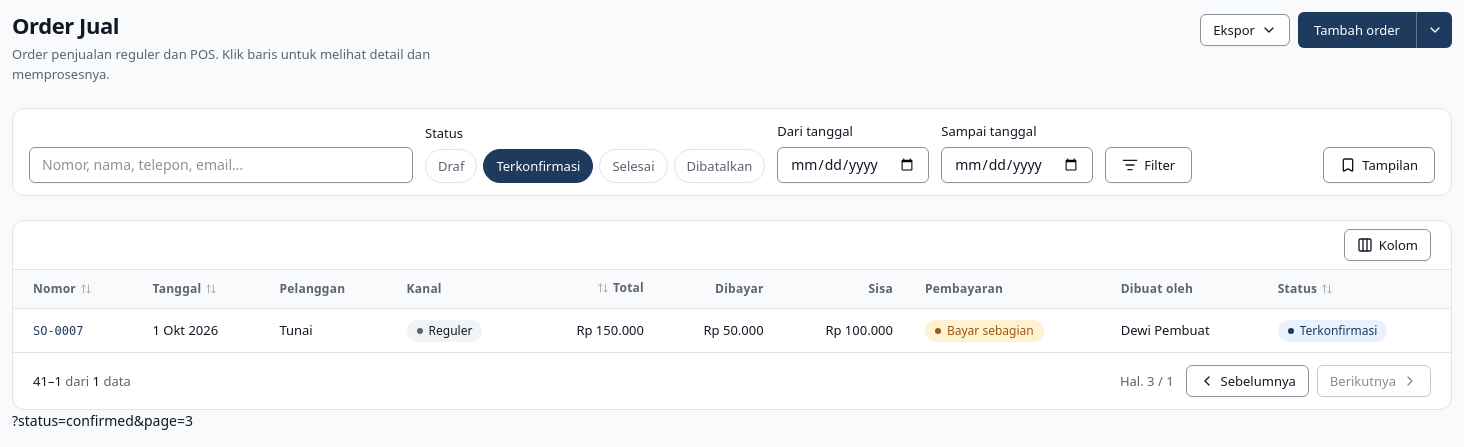
Test: daftar order jual › mengubah status menyinkronkan URL, mereset halaman, dan memuat ulang
The width and height of the screenshot is (1464, 447).
Expected: the text "SO-0007" is shown, x1=33 y1=320 x2=83 y2=340
Click the button "Selesai": {"x": 634, "y": 166} x1=600 y1=148 x2=668 y2=182
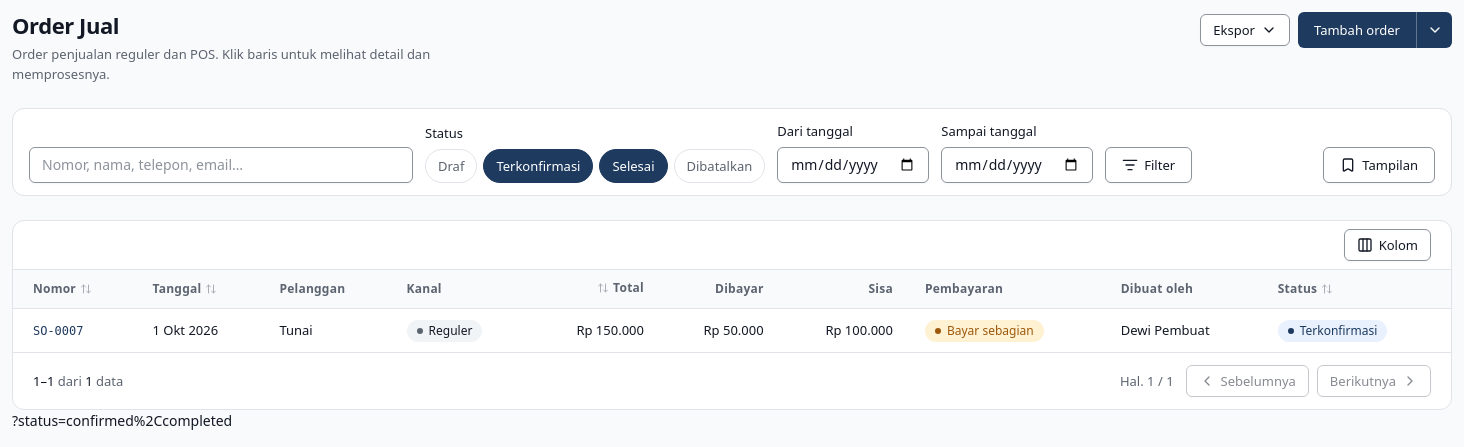
Result: the text with test id "search" reads "?status=confirmed%2Ccompleted" at x1=12 y1=410 x2=232 y2=430
